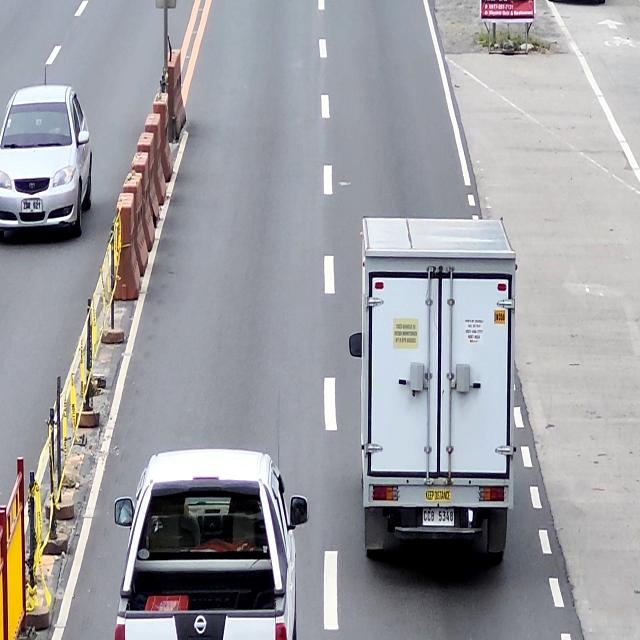Car: (111, 444, 311, 640)
License-Plate: (422, 508, 456, 526)
Truck: (348, 216, 518, 570)
